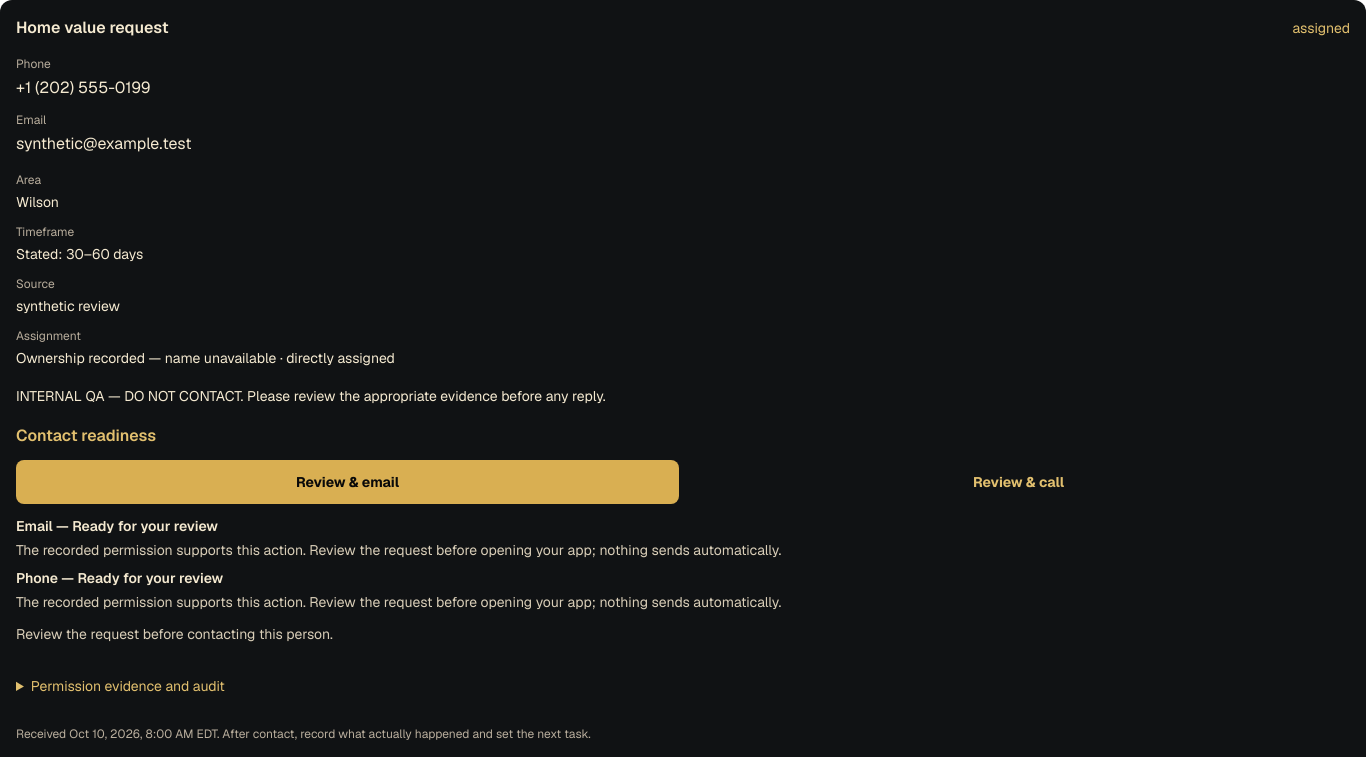
Test: fresh contact access denial (component-only synthetic fetches, not auth proof) › removes contacts and pending action on refreshed 401
Click the button "Review & call". click: (1018, 482)
box: [687,460,1350,504]
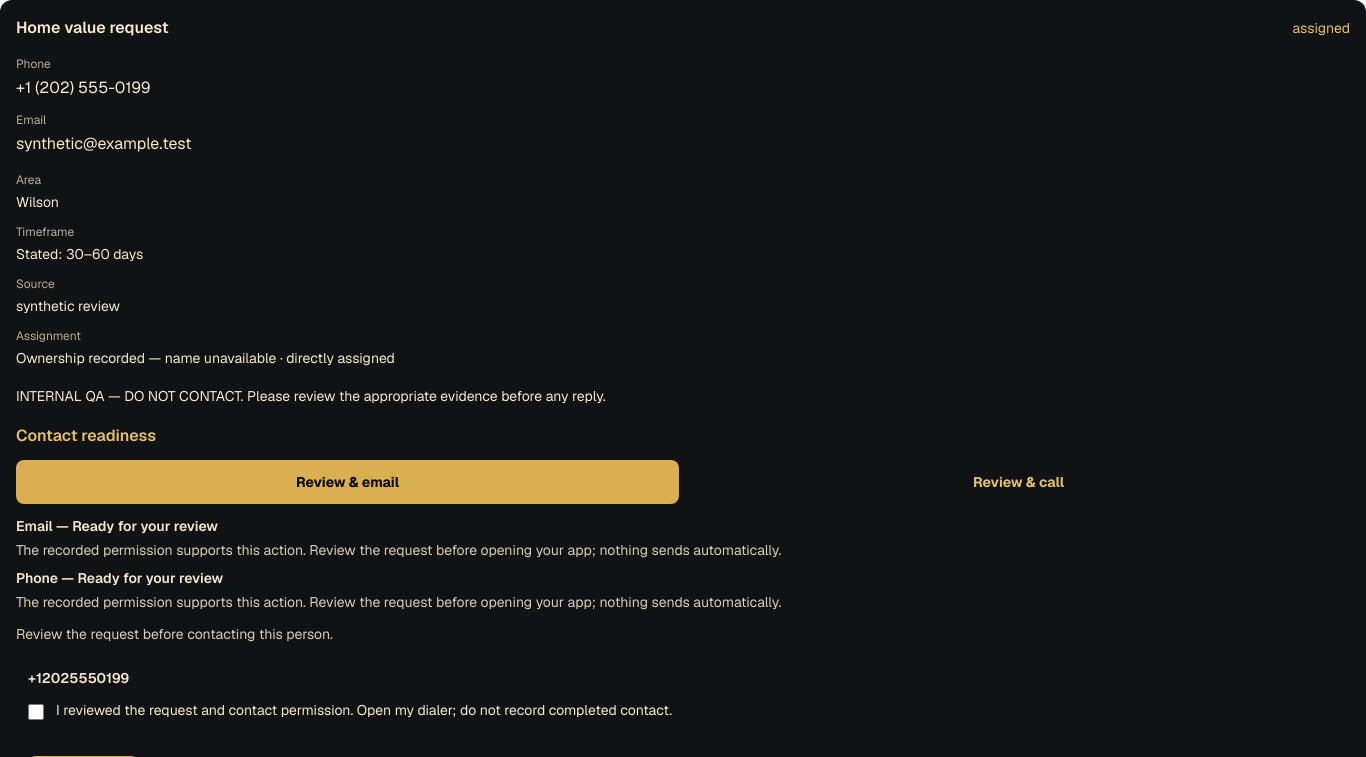
Click the checkbox. click: (36, 712)
box: [28,704,44,720]
(page scrolled)
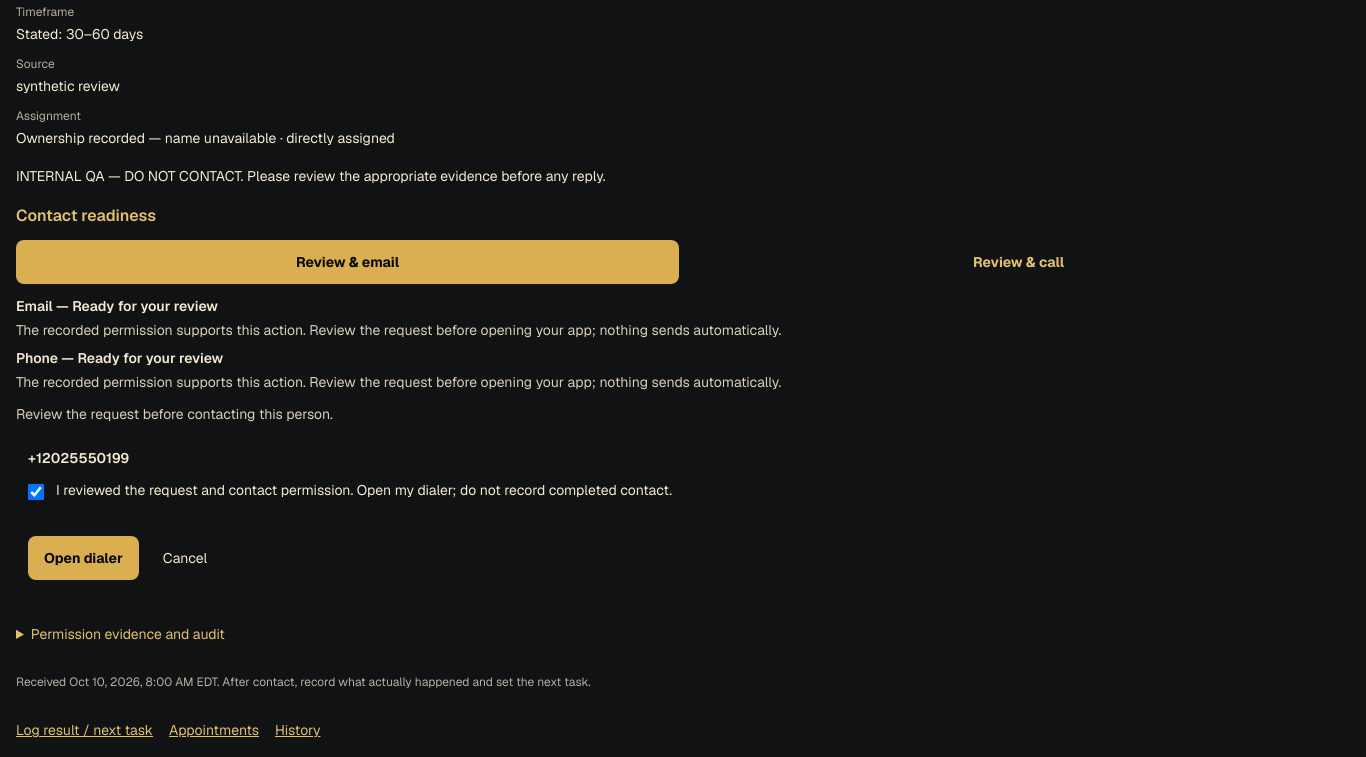
Click the button "Open dialer". click: (83, 558)
box: [28,536,139,580]
(page scrolled)
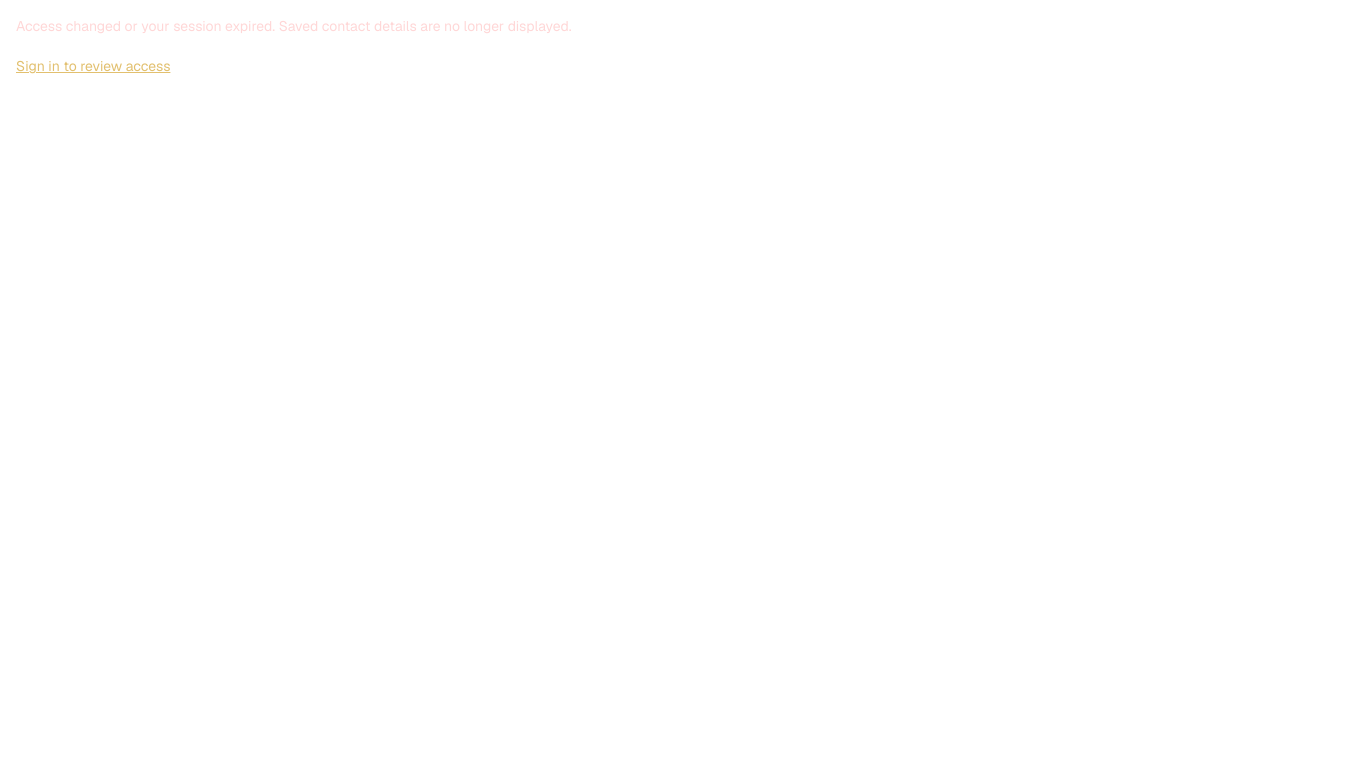
Check: the message named "Lead access unavailable" is shown, box [16,17,572,75]
Check: the button "Open dialer" is gone
